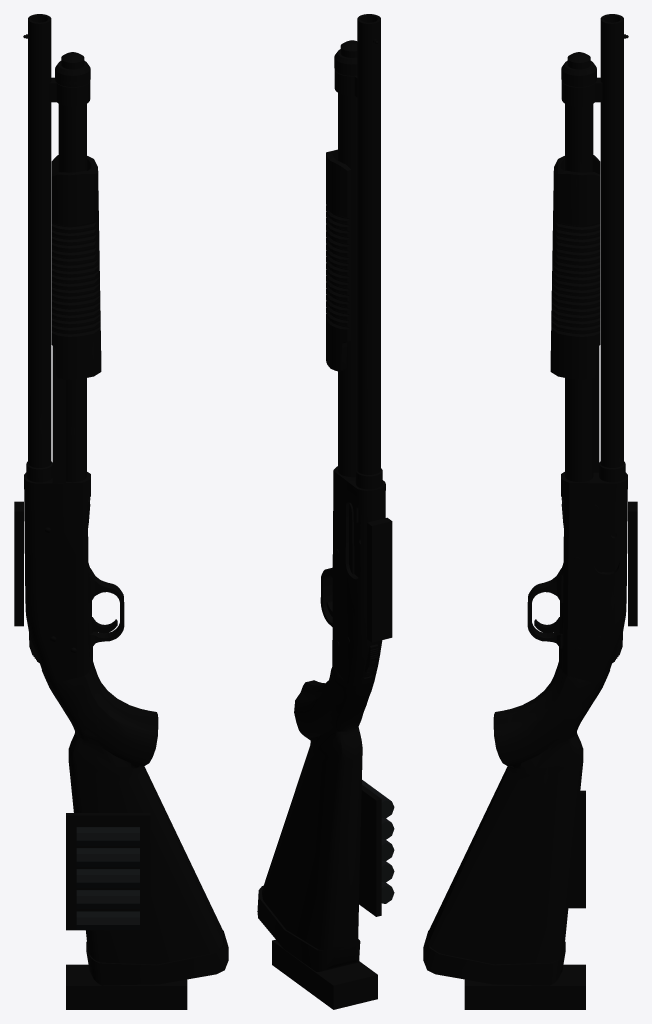
Rendered from M590__Mount_ScopeBase__RecoilPad_Rubber__ShellHolder_Butt.fbx.
The picture shows the model from 3 angles, left to right: view 1: azimuth 90°, elevation 25°; view 2: azimuth 210°, elevation 25°; view 3: azimuth 270°, elevation 25°; orthographic projection.
Parts seen in each view (by area): view 1: asset_M590.001; view 2: asset_M590.001; view 3: asset_M590.001.
Part boxes in pixels (left/top/right/bottom): asset_M590.001: left=14, top=14, right=228, bottom=1009; asset_M590.001: left=257, top=14, right=394, bottom=1009; asset_M590.001: left=423, top=14, right=637, bottom=1009.
Size of the model in its own units: 0.0447 by 0.615 by 0.1218.
